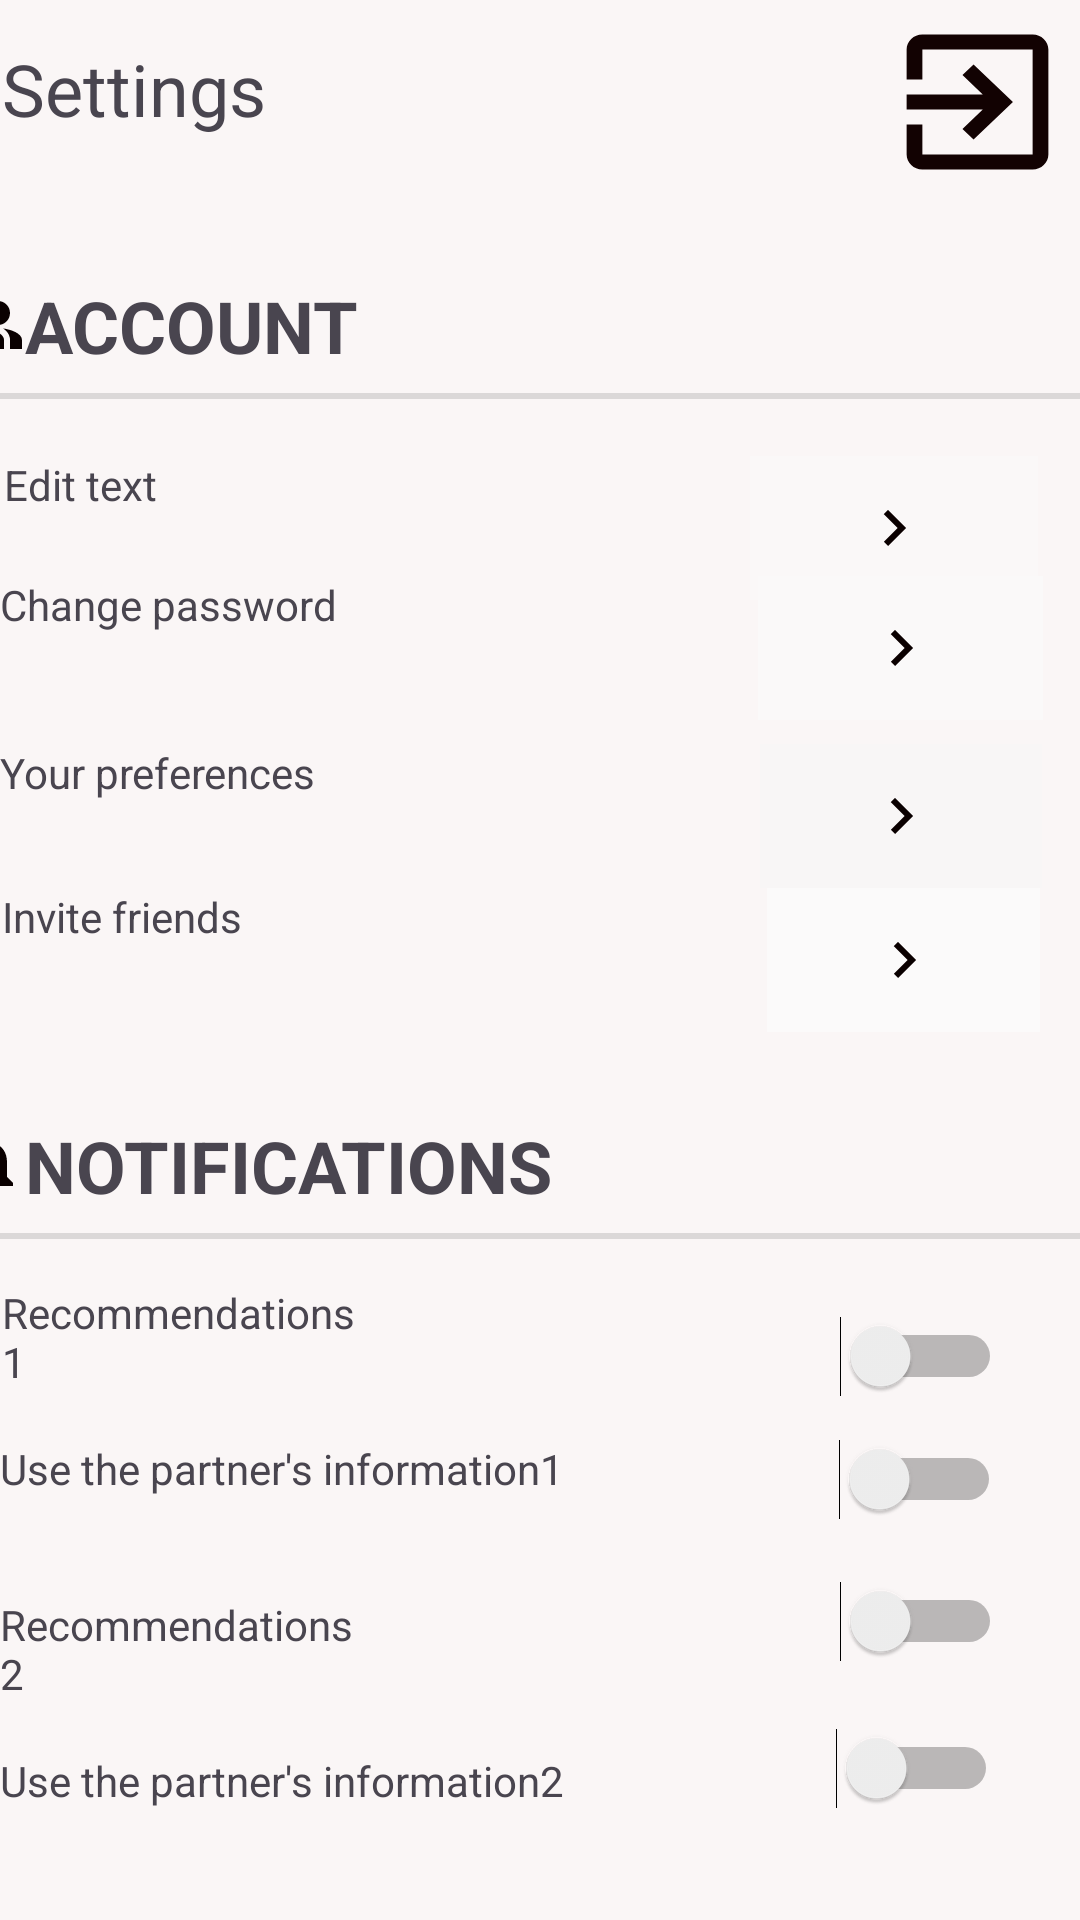

Where to tap for icons on this 1080px x 1920px app screen, as point (x, y):
Exit button: point (977, 102)
